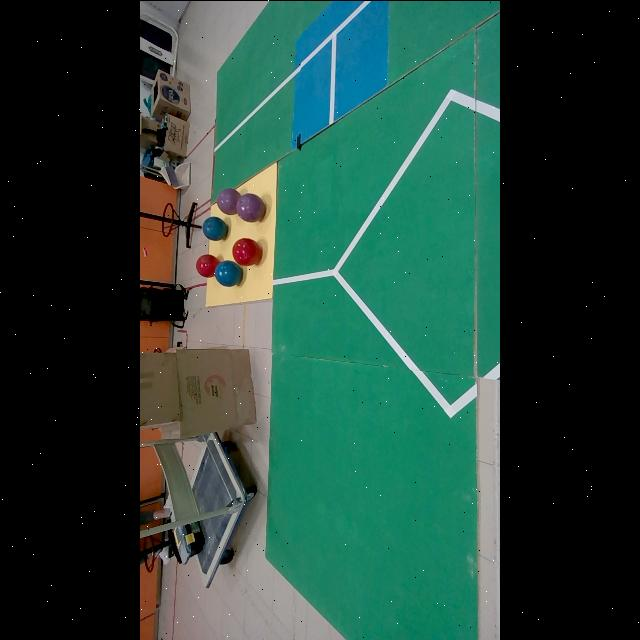B: (214, 260, 242, 286), (202, 216, 228, 239)
P: (236, 192, 266, 222), (217, 187, 241, 214)
R: (232, 237, 262, 265), (196, 253, 219, 277)
